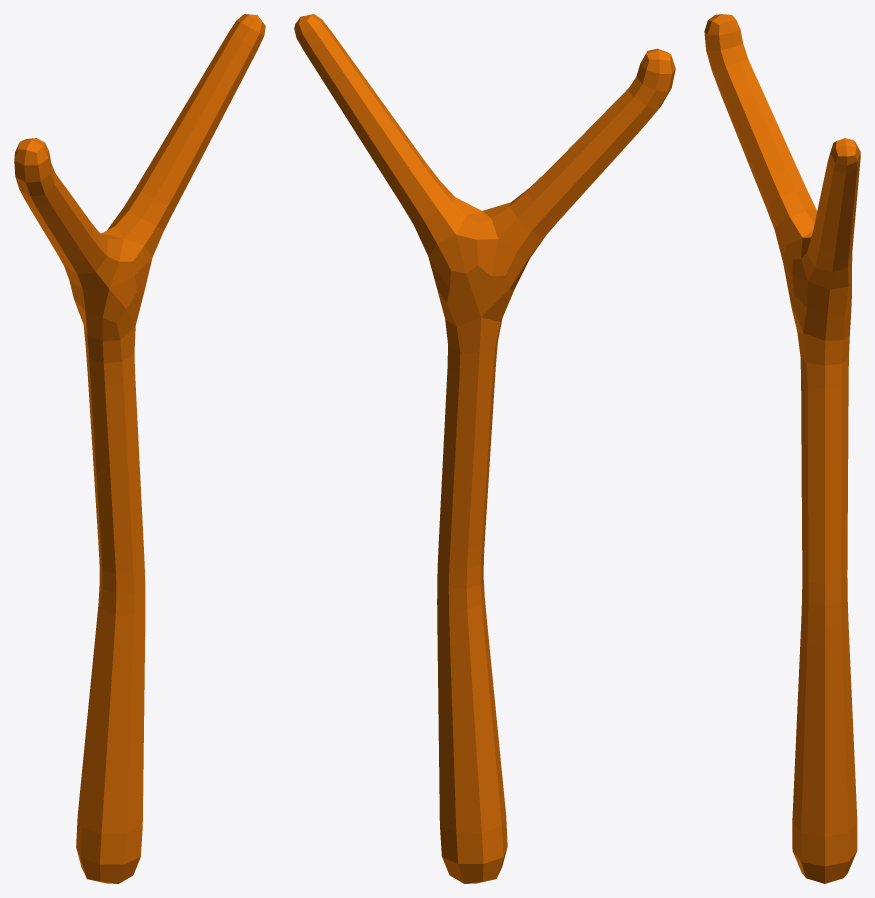
Rendered from Stick.fbx.
3 views of the same model, side by side, from view 1: azimuth 30°, elevation 25°; view 2: azimuth 150°, elevation 25°; view 3: azimuth 270°, elevation 25° (orthographic). The views are drawn at different scales.
Visible parts, largest first — view 1: Plane; view 2: Plane; view 3: Plane.
Boxes of the visible parts, x1,y1,x2,y2 form: Plane: [14, 14, 265, 883]; Plane: [294, 14, 675, 883]; Plane: [704, 14, 860, 883].
Bounding box in the file's own units: 58.86 × 150 × 25.97.
